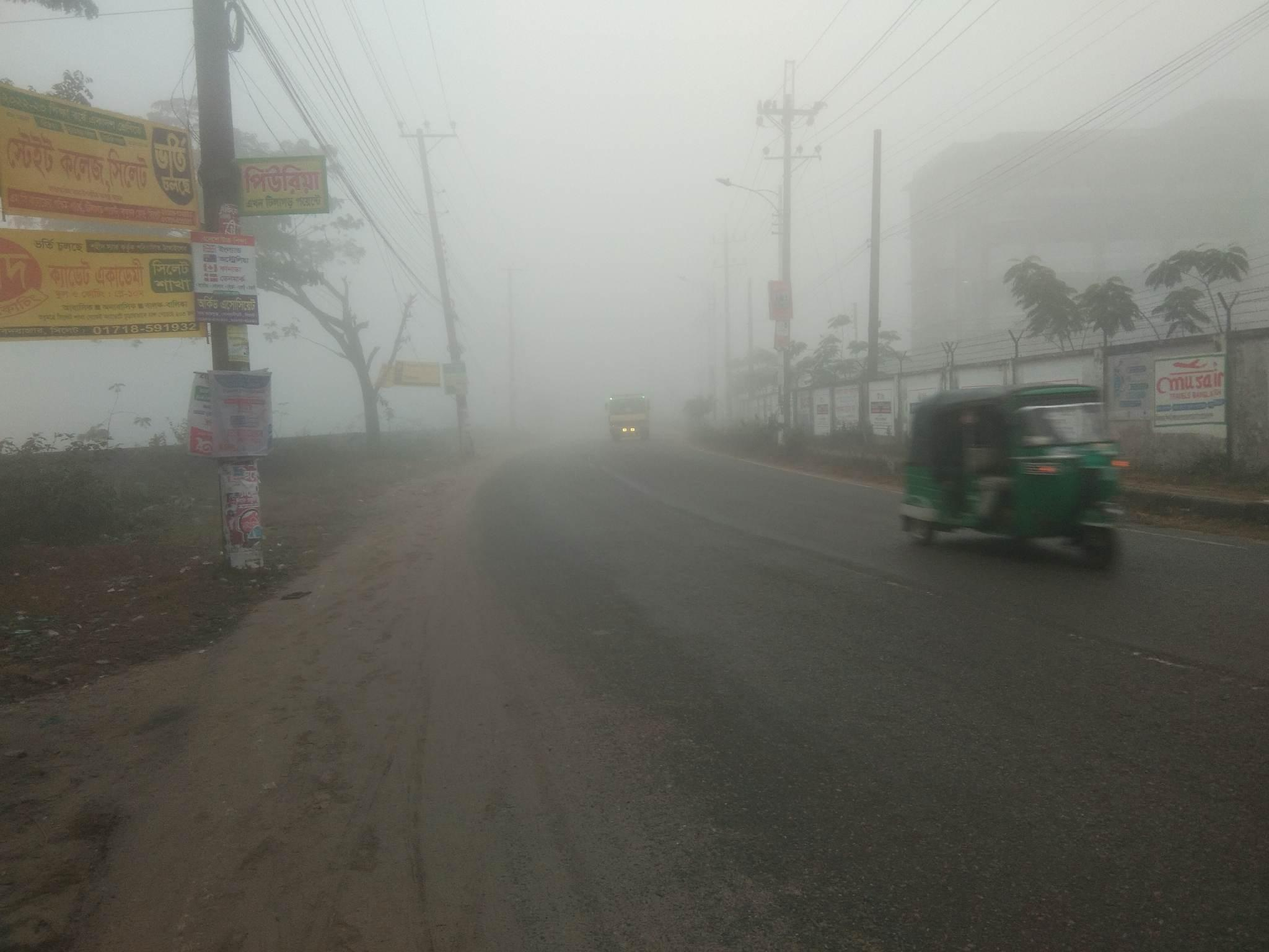Truck: (589, 384, 665, 449)
